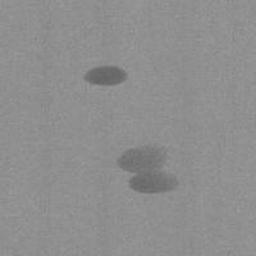Oil spot: (116, 142, 180, 196), (82, 64, 131, 87)
